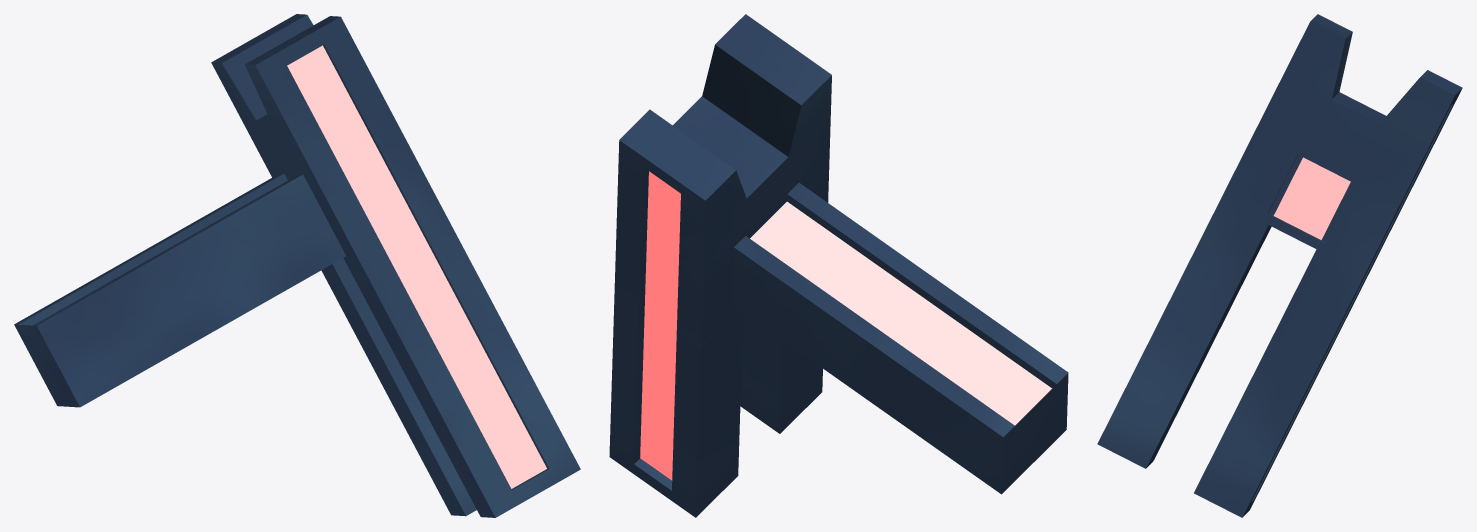
The model's file is sos_beacon_part.glb.
The picture shows the model from 3 angles, left to right: view 1: azimuth 30°, elevation 25°; view 2: azimuth 150°, elevation 25°; view 3: azimuth 270°, elevation 25°; orthographic projection. The views are drawn at different scales.
Visible parts, largest first — view 1: SOS_Beacon_part; view 2: SOS_Beacon_part; view 3: SOS_Beacon_part.
Boxes of the visible parts, x1=… form: SOS_Beacon_part: x1=14, y1=14, x2=580, y2=517; SOS_Beacon_part: x1=609, y1=14, x2=1068, y2=517; SOS_Beacon_part: x1=1097, y1=14, x2=1462, y2=517.
Bounding box in the file's own units: 1.2 × 1.25 × 0.9084.
2 materials, 1 textured.
